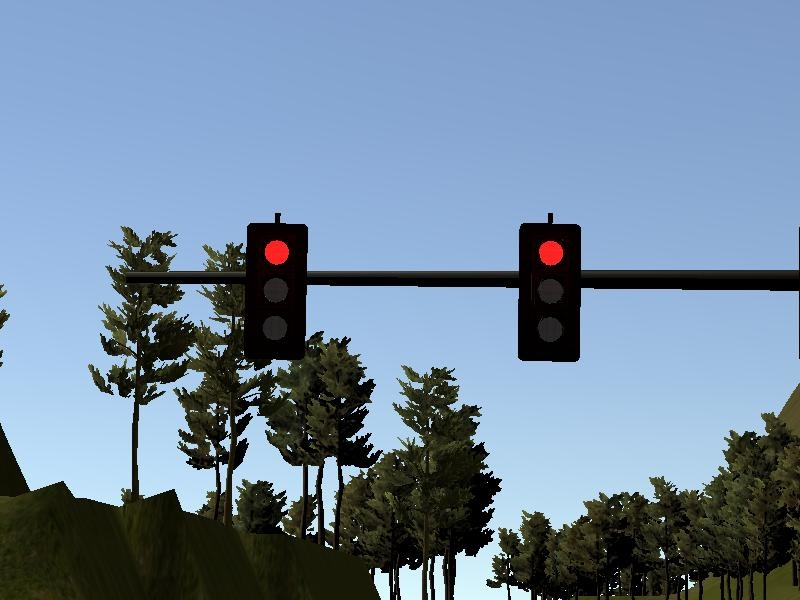red: (514, 217, 583, 363), (242, 216, 310, 359)
